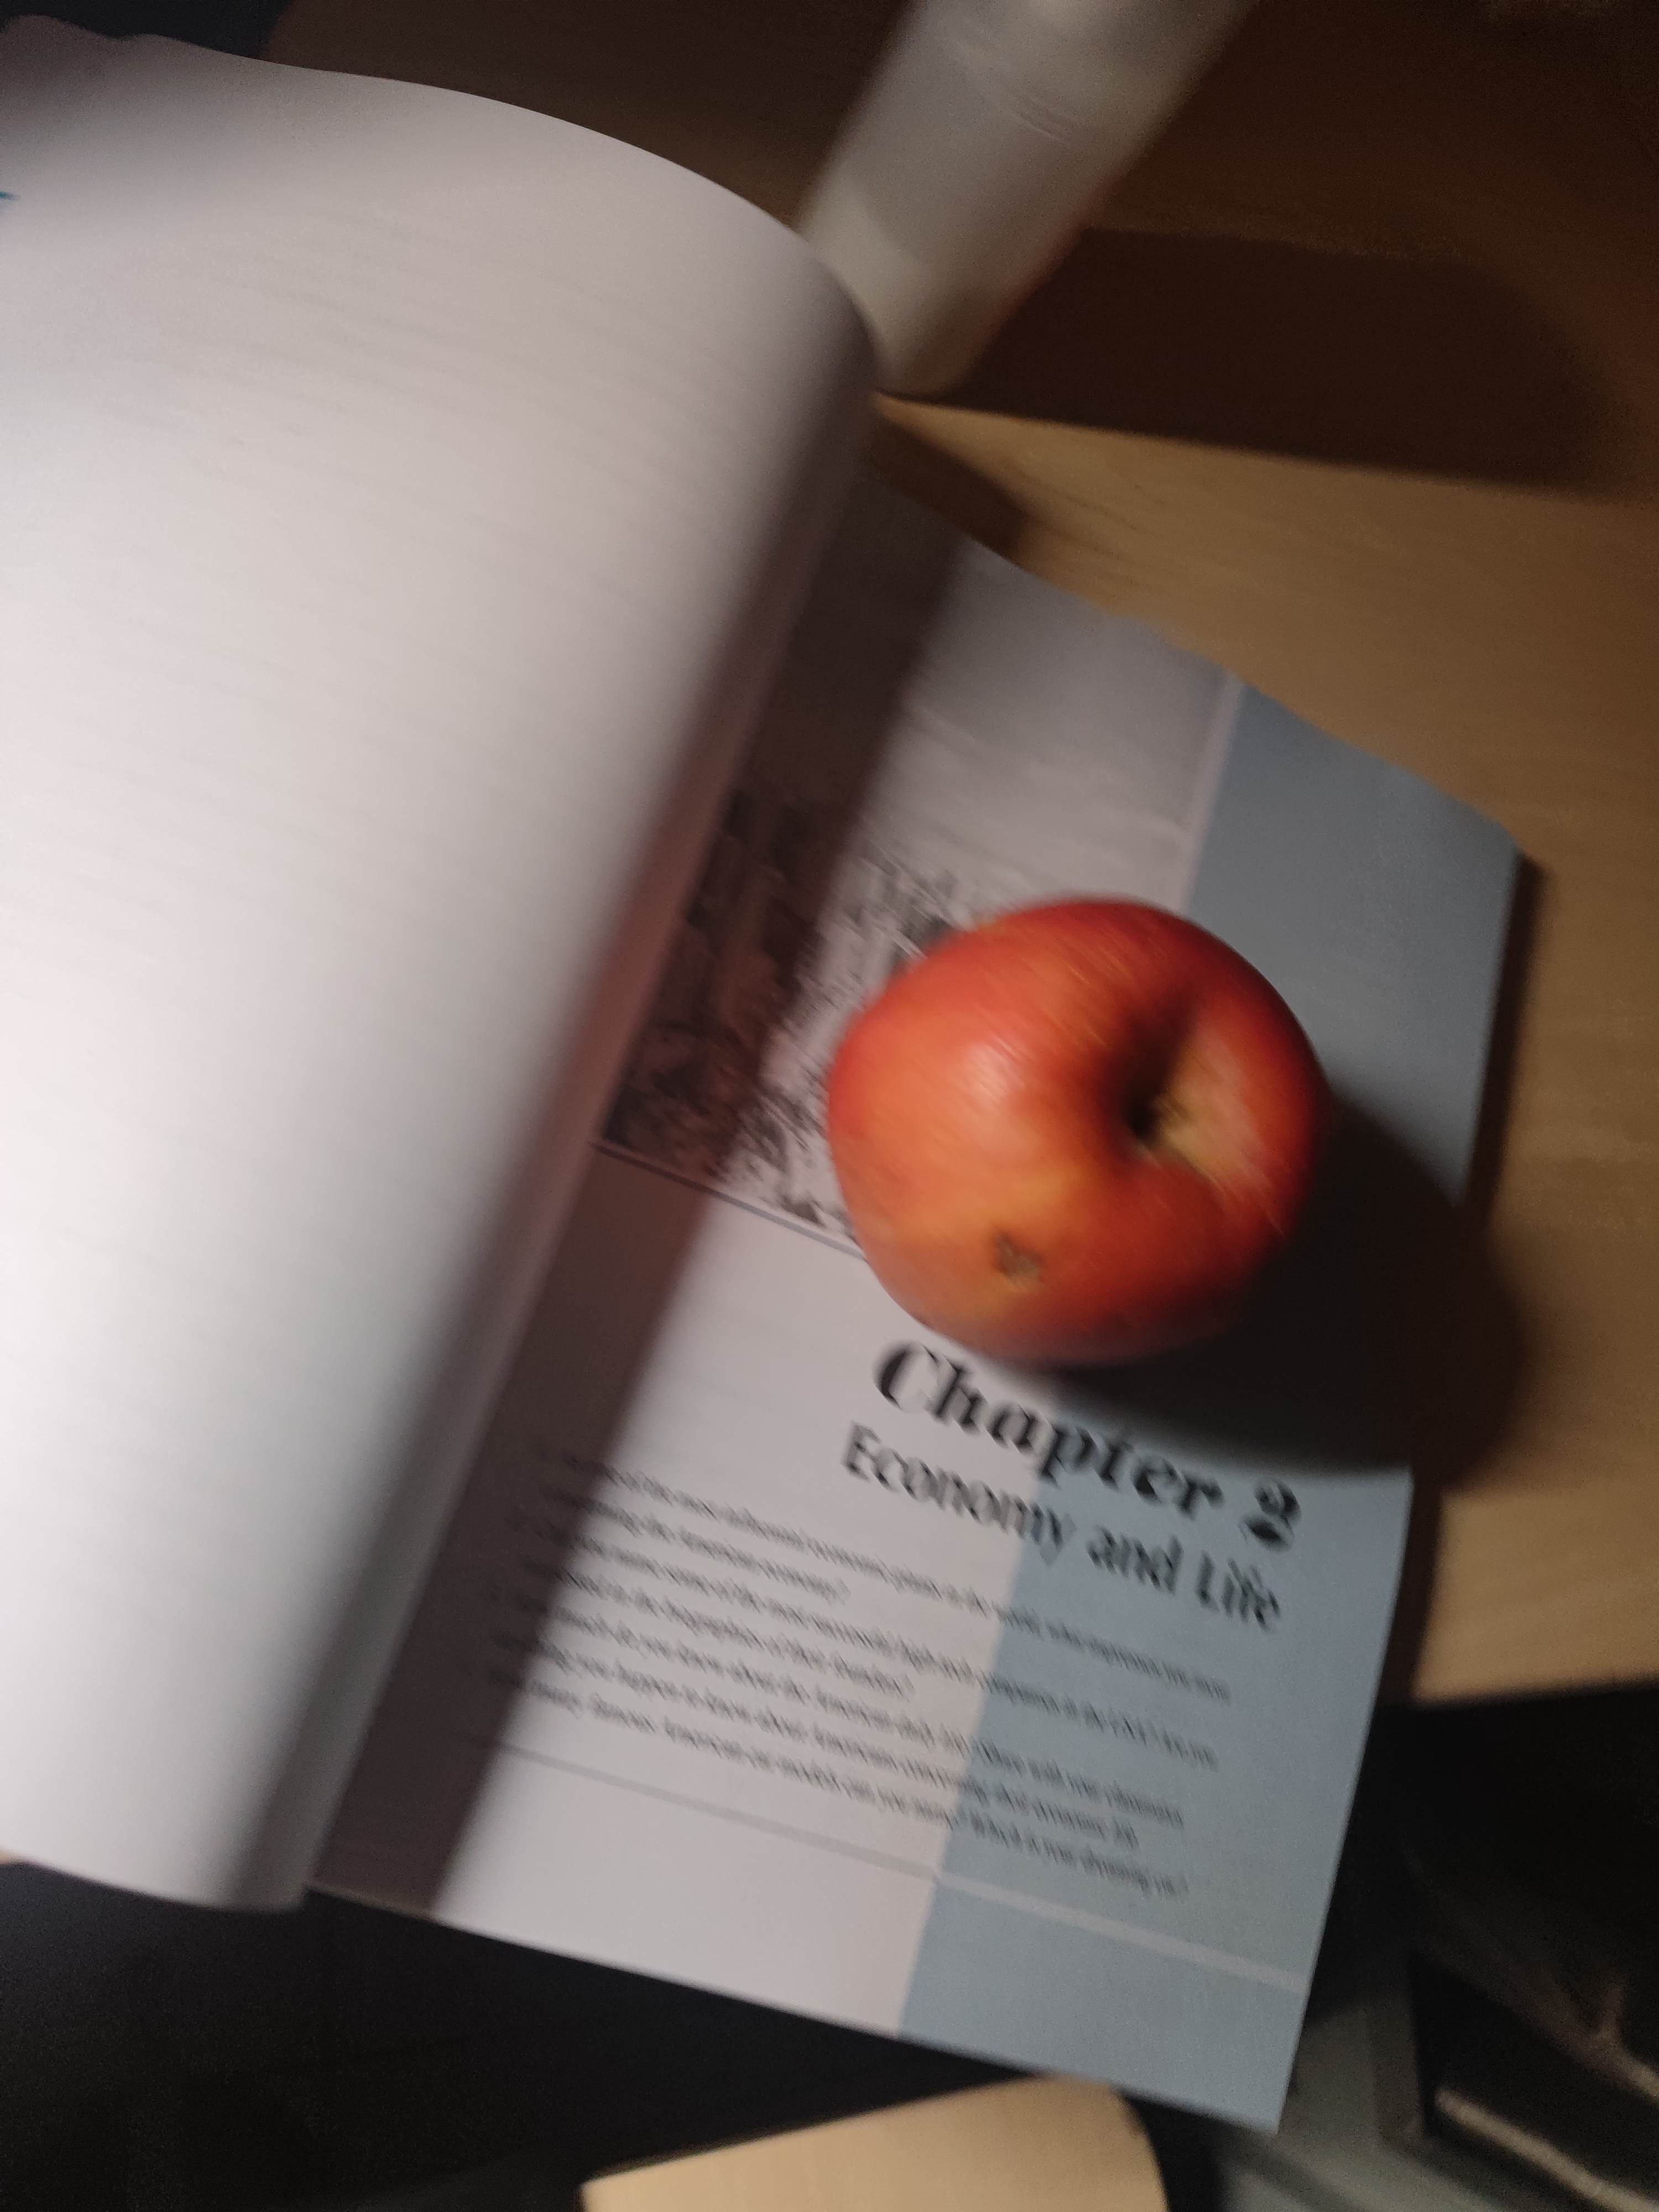apple: (833, 887, 1338, 1372)
